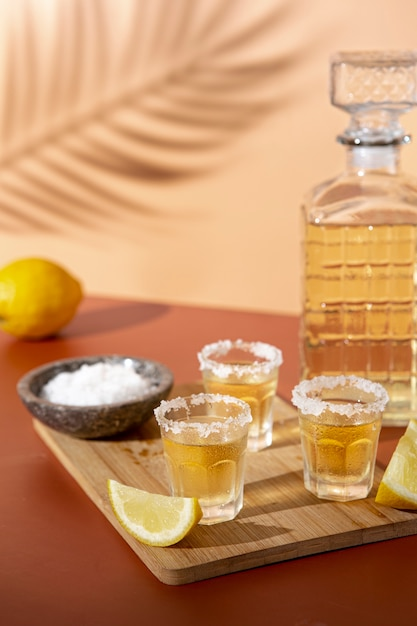alcohol: (297, 53, 417, 425), (150, 392, 251, 525), (291, 369, 386, 503), (196, 336, 280, 449)
